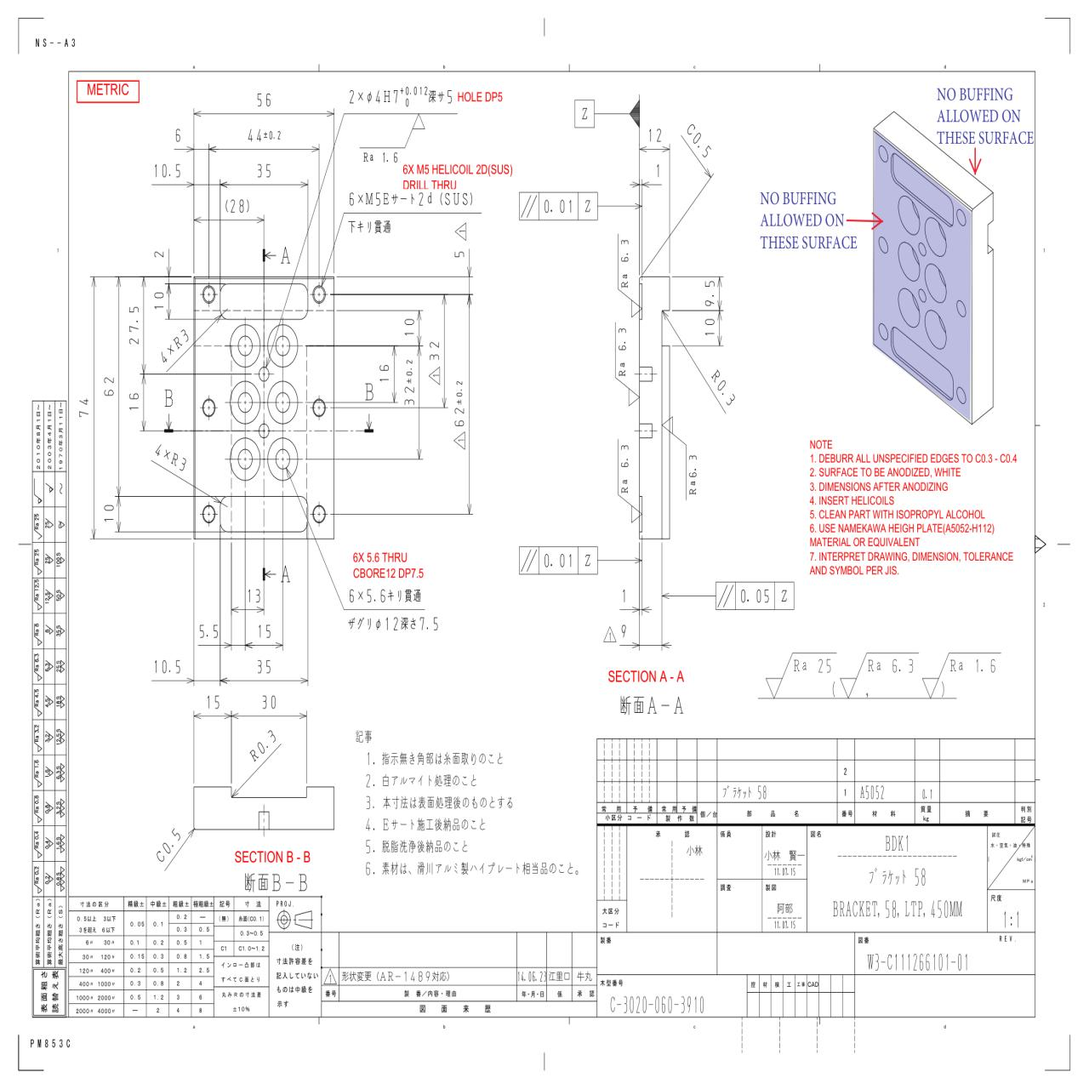basic_dimension: (545, 553, 572, 568), (741, 589, 769, 603), (129, 306, 139, 345), (155, 163, 181, 177), (155, 660, 181, 674), (544, 200, 572, 213), (199, 624, 218, 639), (704, 281, 715, 306), (103, 375, 114, 397), (262, 695, 276, 710), (257, 163, 270, 178), (258, 659, 271, 674), (79, 398, 89, 417), (104, 503, 114, 522), (257, 93, 271, 106), (258, 624, 271, 638), (129, 393, 139, 411), (154, 292, 164, 310), (429, 342, 439, 360), (649, 128, 661, 143), (404, 318, 414, 335), (231, 199, 243, 213), (379, 365, 389, 381), (248, 589, 260, 602), (207, 696, 219, 709), (705, 319, 714, 335), (154, 250, 164, 259), (454, 251, 465, 258), (621, 624, 626, 638), (176, 128, 180, 143), (657, 163, 660, 178), (623, 589, 625, 602)
datum_symbol: (574, 99, 640, 128)
dimension_chamfer_symbol: (155, 827, 182, 864), (686, 121, 712, 159)
dimension_chamfer_text: (161, 826, 182, 856)
dimension_diameter_symbol: (366, 86, 428, 108), (374, 615, 398, 634)
dimension_diameter_text: (385, 615, 399, 633), (375, 87, 380, 105)
dimension_metric_symbol: (365, 192, 381, 206)
dimension_metric_text: (375, 191, 381, 206)
dimension_radius_symbol: (249, 728, 277, 763), (711, 368, 736, 407), (169, 449, 187, 474), (172, 328, 190, 351)
dimension_radius_text: (716, 378, 736, 408), (256, 728, 277, 755), (178, 456, 188, 474), (180, 328, 190, 343)
explicit_tolerance_text: (405, 359, 415, 404), (248, 129, 281, 142), (455, 380, 464, 427)
gdt_frame_symbol: (519, 191, 598, 221), (715, 581, 795, 610), (519, 546, 598, 574)
gdt_parallelism_symbol: (526, 195, 537, 218), (723, 585, 734, 608), (717, 585, 728, 608), (526, 549, 537, 572), (521, 549, 532, 572), (521, 195, 531, 218)
revision_triangle_symbol: (454, 222, 466, 241), (428, 366, 440, 385), (453, 431, 465, 450), (603, 626, 617, 642)
surface_finish_symbol: (839, 652, 919, 699), (921, 652, 1001, 699), (765, 652, 837, 699), (359, 113, 425, 163), (661, 416, 697, 500), (617, 438, 643, 524), (617, 234, 643, 318), (615, 322, 640, 407)
surface_finish_text: (892, 659, 913, 673), (976, 659, 995, 673), (620, 239, 629, 262), (618, 328, 626, 351), (818, 659, 831, 673), (621, 445, 629, 467), (689, 455, 697, 477), (383, 152, 398, 163)
